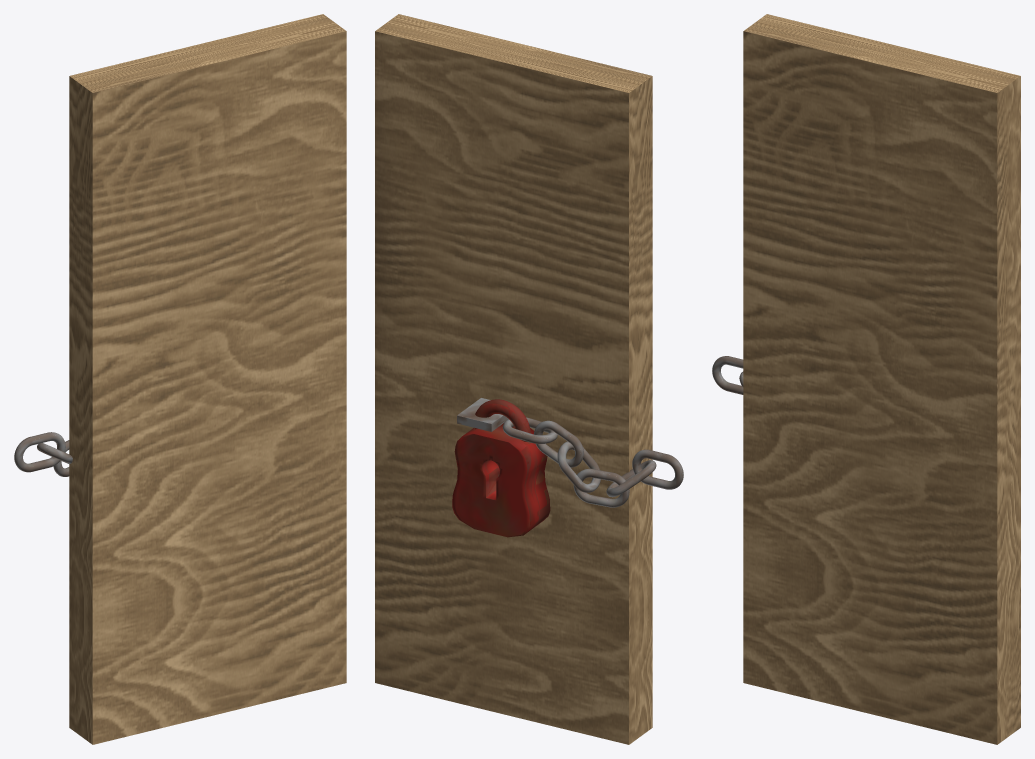
The model's file is lockred.fbx.
3 renders of one model, left to right at view 1: azimuth 30°, elevation 25°; view 2: azimuth 150°, elevation 25°; view 3: azimuth 330°, elevation 25°, orthographic.
Visible parts, largest first — view 1: Cube.003, Torus.006; view 2: Cube.003, Cube.005, Torus.006, Torus.004, Torus.001, Torus, Torus.003, Cube.004, Torus.005, Torus.002; view 3: Cube.003, Torus.006.
Part boxes in pixels (x1,y1,x2,y2): Cube.003: (69,14,346,744); Torus.006: (14,432,65,472); Cube.003: (375,14,652,744); Cube.005: (452,423,550,537); Torus.006: (632,449,683,489); Torus.004: (573,468,629,507); Torus.001: (534,420,583,467); Torus: (473,399,530,441); Torus.003: (557,441,600,492); Cube.004: (457,398,508,431); Torus.005: (502,417,557,443); Torus.002: (606,460,656,497); Cube.003: (743,14,1020,744); Torus.006: (712,356,743,394).
Size of the model in its own units: 243 by 490 by 69.76.
10 materials, 10 textured.
